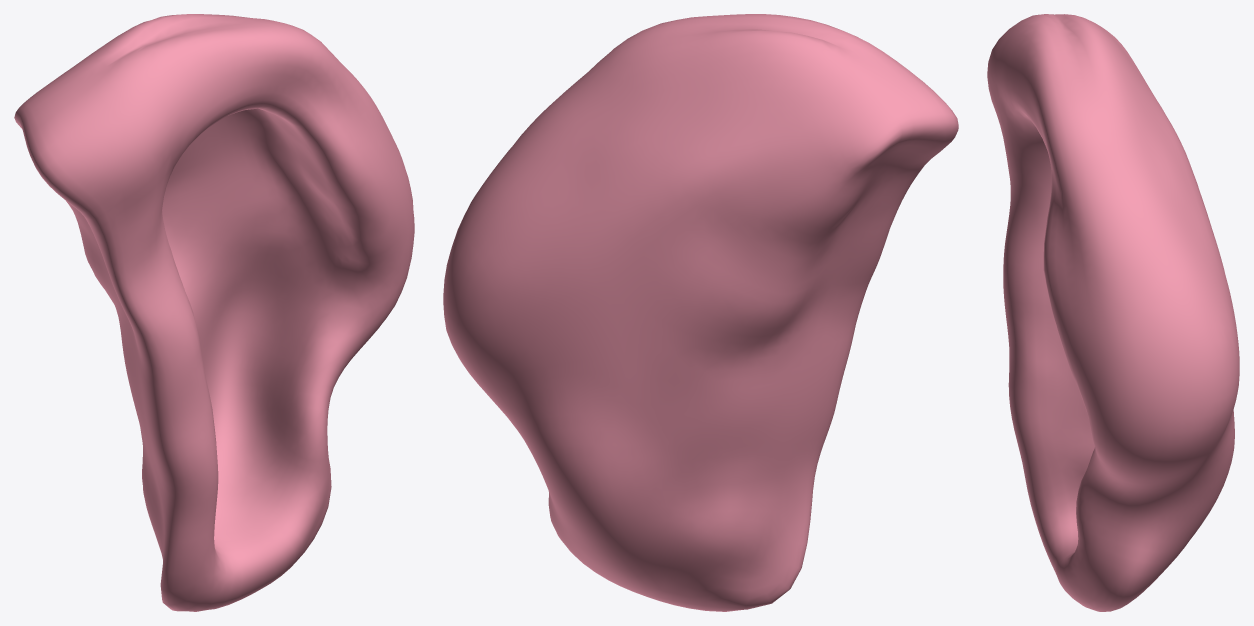
Rendered from Ear_L_Human.fbx.
3 renders of one model, left to right at view 1: azimuth 30°, elevation 25°; view 2: azimuth 150°, elevation 25°; view 3: azimuth 270°, elevation 25°, orthographic. The views are drawn at different scales.
Parts seen in each view (by area): view 1: ObjLEar; view 2: ObjLEar; view 3: ObjLEar.
Boxes of the visible parts, box(x1,y1,x2,y2) form: ObjLEar: box(14, 14, 414, 611); ObjLEar: box(443, 14, 958, 611); ObjLEar: box(987, 14, 1239, 611).
Bounding box in the file's own units: 32.96 × 43.35 × 18.57.
